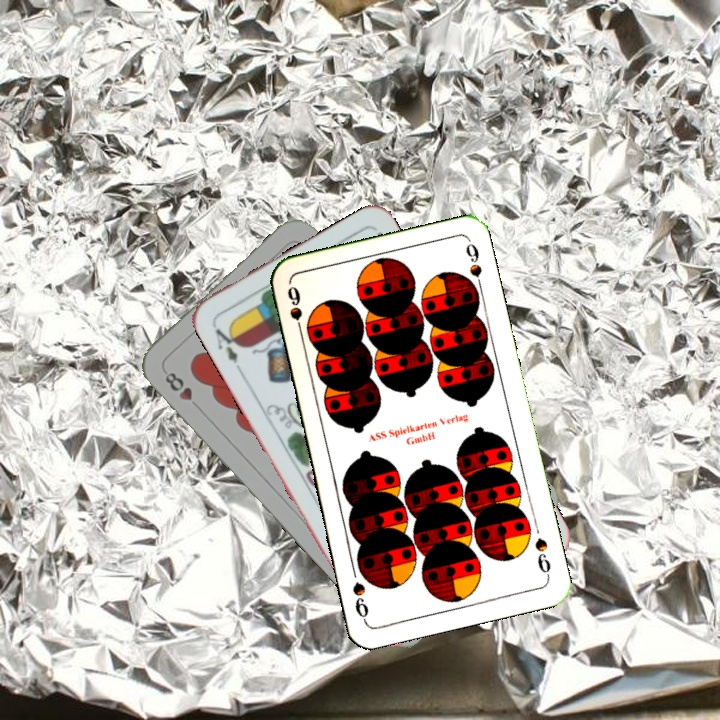EA: (208, 320, 244, 374)
H8: (160, 368, 204, 413)
S9: (283, 281, 306, 340), (531, 534, 553, 580)
